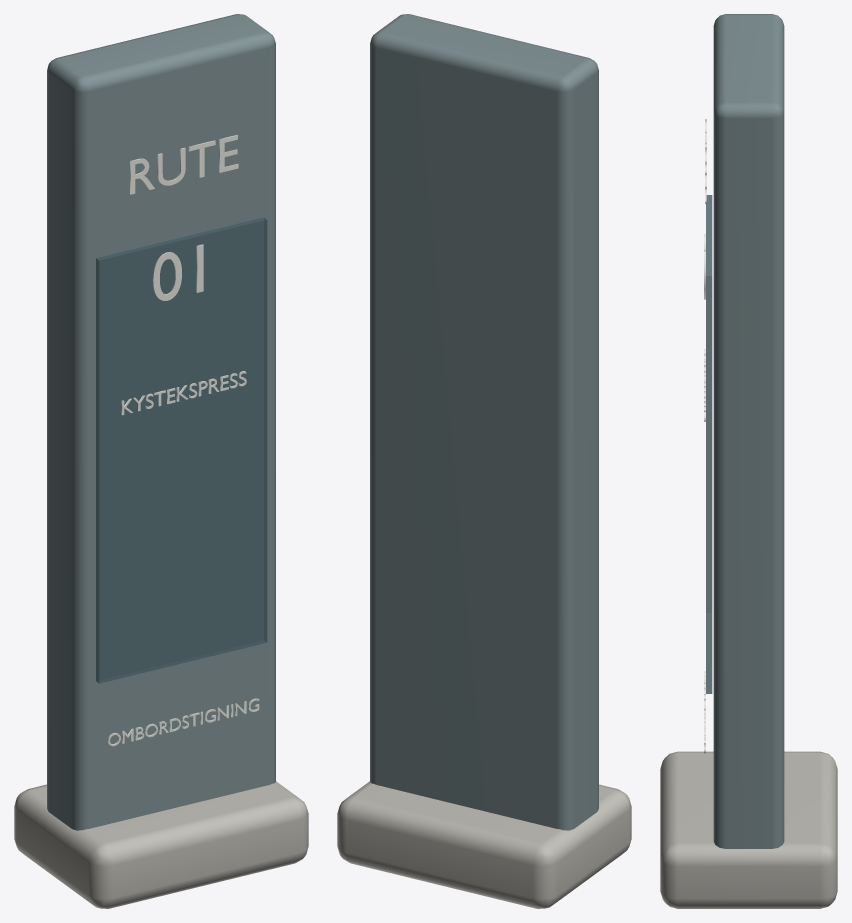
The model's file is terminal_information_pylon.glb.
The picture shows the model from 3 angles, left to right: view 1: azimuth 30°, elevation 25°; view 2: azimuth 150°, elevation 25°; view 3: azimuth 270°, elevation 25°; orthographic projection.
Parts seen in each view (by area): view 1: terminal_information_pylon__Deep petrol painted steel, terminal_information_pylon__Optical ferry glass, terminal_information_pylon__Concrete, terminal_information_pylon__Warm white painted steel; view 2: terminal_information_pylon__Deep petrol painted steel, terminal_information_pylon__Concrete; view 3: terminal_information_pylon__Deep petrol painted steel, terminal_information_pylon__Concrete, terminal_information_pylon__Optical ferry glass, terminal_information_pylon__Warm white painted steel.
Part boxes in pixels (x1=…): terminal_information_pylon__Deep petrol painted steel: x1=47, y1=14, x2=275, y2=830; terminal_information_pylon__Optical ferry glass: x1=96, y1=217, x2=267, y2=683; terminal_information_pylon__Concrete: x1=14, y1=781, x2=308, y2=908; terminal_information_pylon__Warm white painted steel: x1=107, y1=134, x2=259, y2=746; terminal_information_pylon__Deep petrol painted steel: x1=370, y1=14, x2=598, y2=830; terminal_information_pylon__Concrete: x1=337, y1=781, x2=631, y2=908; terminal_information_pylon__Deep petrol painted steel: x1=713, y1=14, x2=784, y2=848; terminal_information_pylon__Concrete: x1=660, y1=751, x2=837, y2=908; terminal_information_pylon__Optical ferry glass: x1=706, y1=195, x2=712, y2=693; terminal_information_pylon__Warm white painted steel: x1=704, y1=119, x2=706, y2=753.
Bounding box in the file's own units: 0.7 × 2.5 × 0.5.
